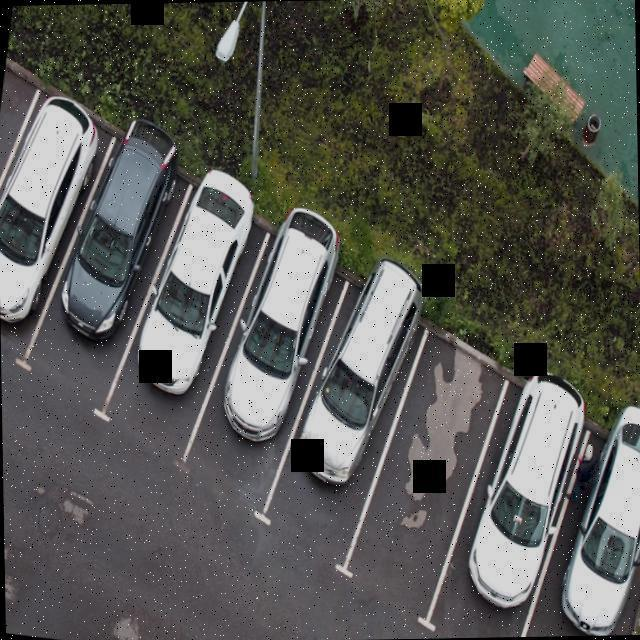space-empty: (341, 335, 508, 604)
space-occupied: (426, 361, 593, 638), (105, 179, 267, 456), (181, 233, 343, 508), (265, 274, 420, 548), (23, 132, 175, 406), (0, 92, 111, 355), (527, 398, 640, 636)
